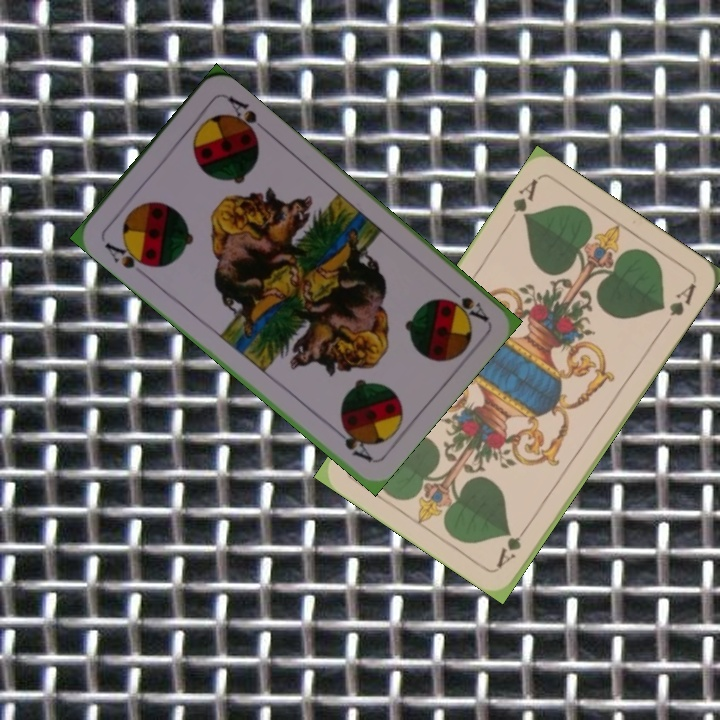GA: (492, 519, 533, 571), (503, 175, 540, 228)
SA: (441, 280, 491, 325), (100, 238, 154, 272)
